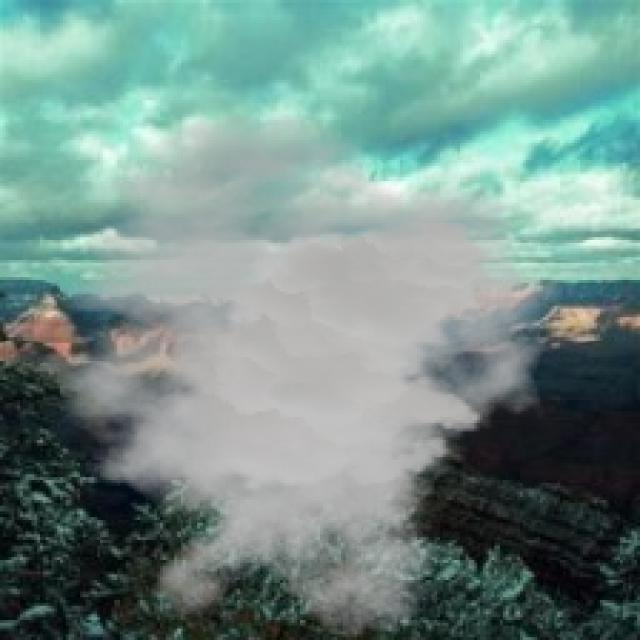smoke: (0, 112, 566, 637)
